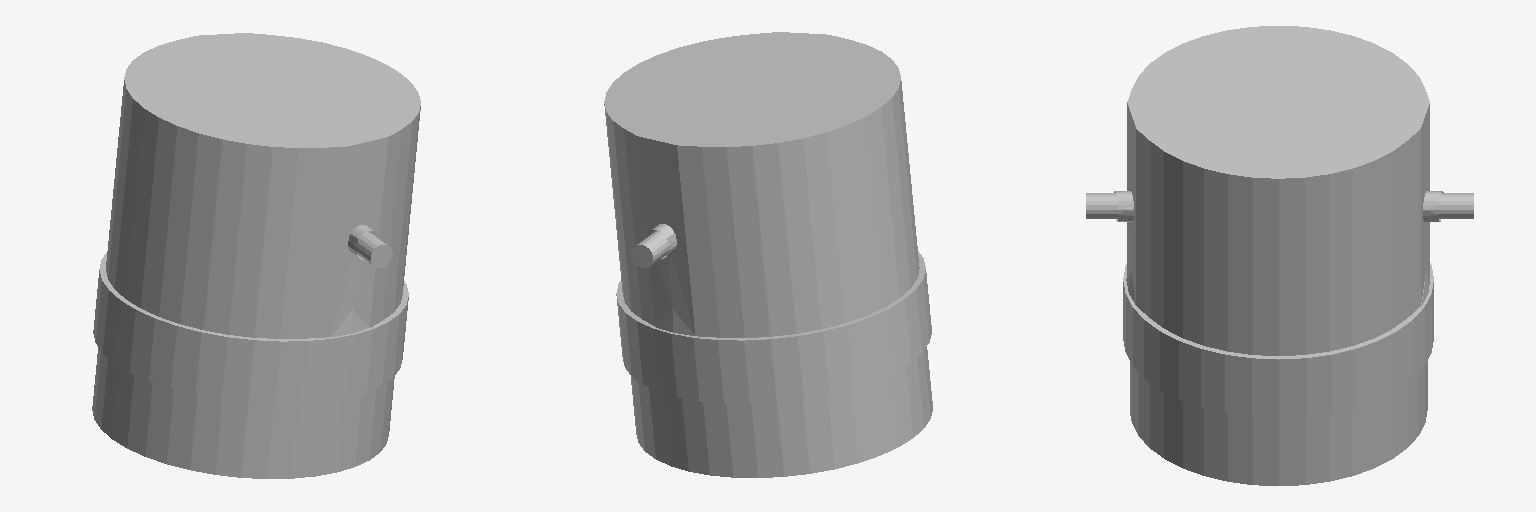
Rendered from 3_light.obj.
3 renders of one model, left to right at view 1: azimuth 30°, elevation 25°; view 2: azimuth 150°, elevation 25°; view 3: azimuth 270°, elevation 25°, orthographic.
Parts seen in each view (by area): view 1: stage_cgtrader:Cylinder042 group; view 2: stage_cgtrader:Cylinder042 group; view 3: stage_cgtrader:Cylinder042 group.
Part boxes in pixels (bbox=[...]): stage_cgtrader:Cylinder042 group: bbox=[92, 33, 420, 478]; stage_cgtrader:Cylinder042 group: bbox=[604, 32, 932, 477]; stage_cgtrader:Cylinder042 group: bbox=[1086, 26, 1473, 485].
Bounding box in the file's own units: 8.12 × 9.43 × 9.47.